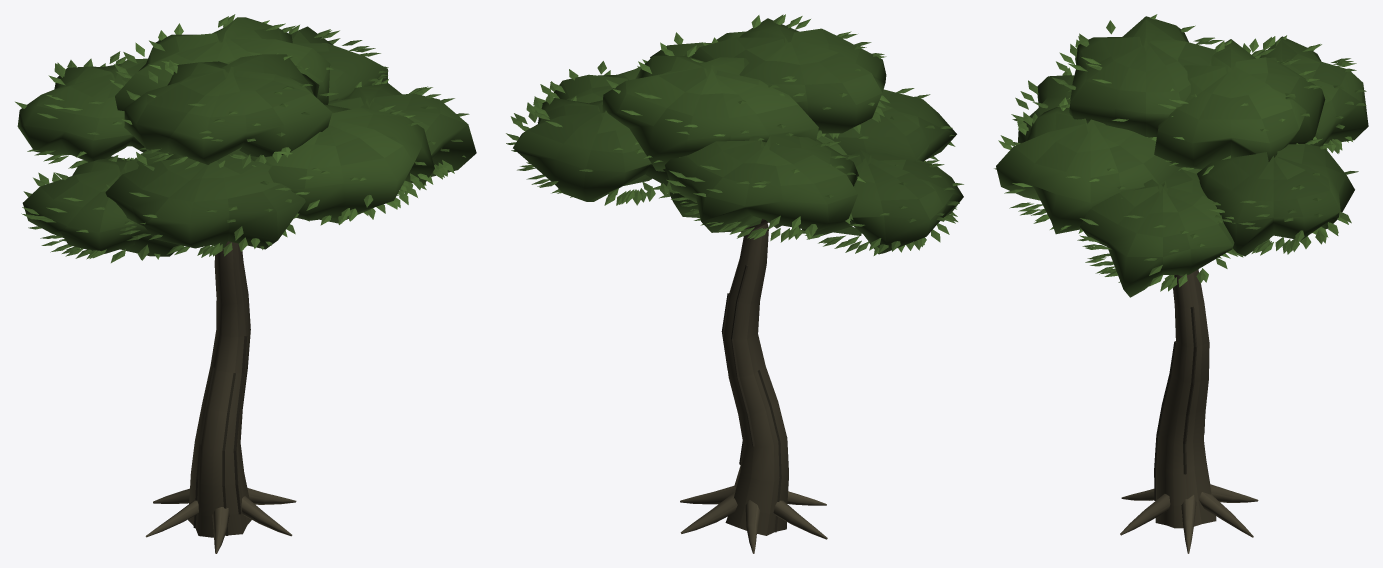
File: strange_wildwood_tree.glb
The picture shows the model from 3 angles, left to right: view 1: azimuth 30°, elevation 25°; view 2: azimuth 150°, elevation 25°; view 3: azimuth 270°, elevation 25°; orthographic projection.
Parts seen in each view (by area): view 1: strange_wildwood_tree; view 2: strange_wildwood_tree; view 3: strange_wildwood_tree.
Part boxes in pixels (<box>): strange_wildwood_tree: <box>15,14,476,553</box>; strange_wildwood_tree: <box>506,14,963,553</box>; strange_wildwood_tree: <box>994,14,1368,553</box>.
Size of the model in its own units: 9.45 by 10.19 by 7.23.
